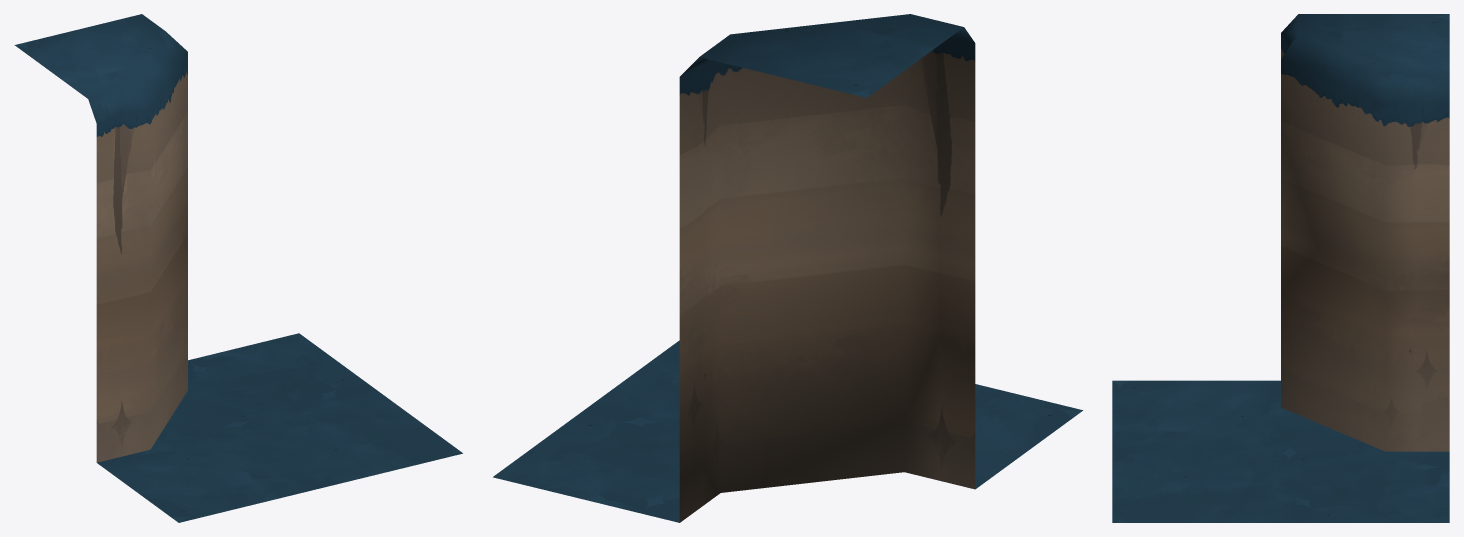
The model's file is hillcornerterrain.fbx.
3 renders of one model, left to right at view 1: azimuth 30°, elevation 25°; view 2: azimuth 150°, elevation 25°; view 3: azimuth 270°, elevation 25°, orthographic. The views are drawn at different scales.
Parts seen in each view (by area): view 1: Cube.001; view 2: Cube.001; view 3: Cube.001.
Part boxes in pixels (x1=…): Cube.001: x1=14, y1=14, x2=462, y2=522; Cube.001: x1=493, y1=14, x2=1082, y2=522; Cube.001: x1=1112, y1=14, x2=1449, y2=522.
Bounding box in the file's own units: 1 × 1.2 × 1.
